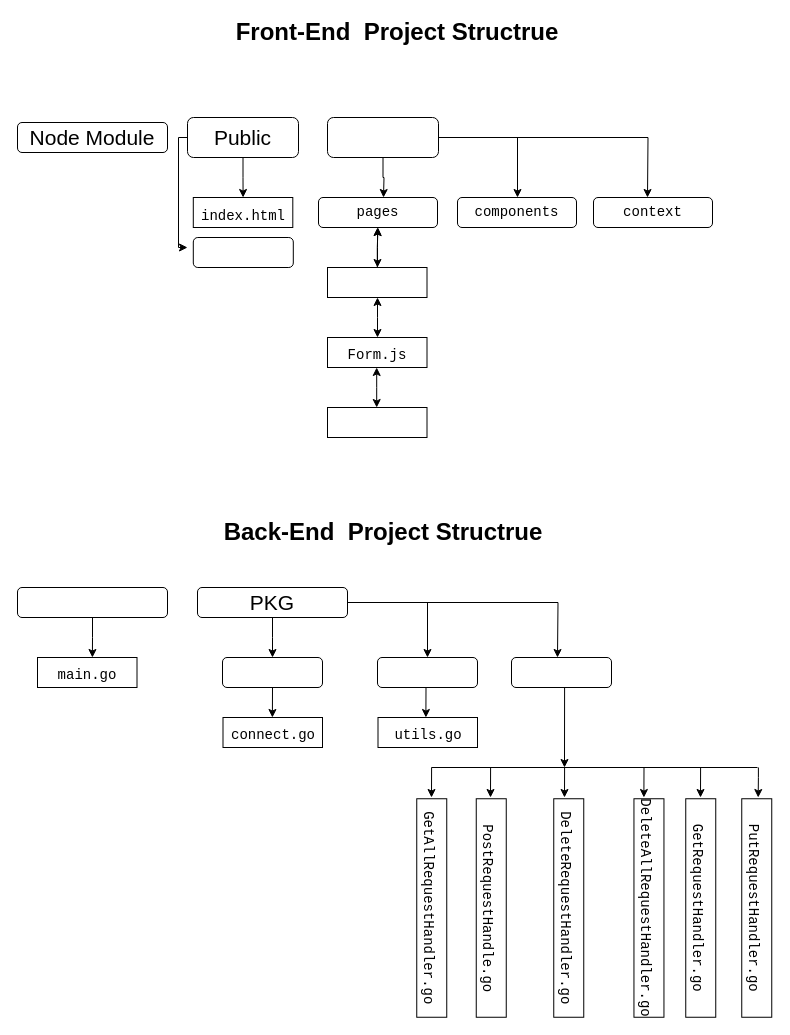
The diagram is 790 pixels wide and 1035 high, and some of its shapes have lost their labels. Each missing label, with the centre of its shape:
"CMD" belongs at point 92,602.
"config" belongs at point 272,672.
"controllers" belongs at point 561,672.
"Home.js" belongs at point 376,282.
"img" belongs at point 242,252.
"Post.js" belongs at point 376,422.
"Src" belongs at point 382,137.
"utils" belongs at point 427,672.
